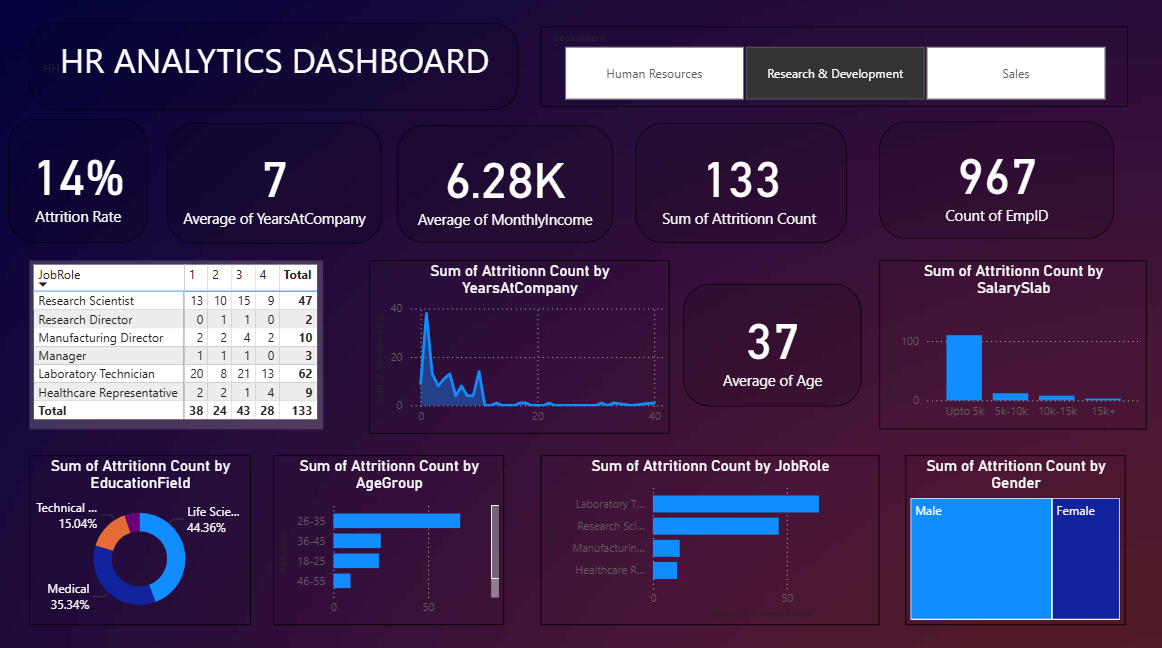

The page's visual inventory and layout, read from the dashboard file:
{"tool":"powerbi","page":{"name":"Page 1","canvas":[1280,720],"ordinal":0},"visuals":[{"type":"card","fields":{"Values":["CountNonNull(HR_Analytics.EmpID)"]},"box":[979.8,150.9,258,129],"z":0},{"type":"card","fields":{"Values":["HR_Analytics.Attrition Rate"]},"box":[11,137.2,153.7,135.8],"z":1000},{"type":"card","fields":{"Values":["Avg(HR_Analytics.Age)"]},"box":[456.9,145.5,196.2,134.5],"z":2000},{"type":"card","fields":{"Values":["Avg(HR_Analytics.YearsAtCompany)"]},"box":[200.3,133.1,241.5,146.8],"z":3000},{"type":"card","fields":{"Values":["Sum(HR_Analytics.Attritionn Count )"]},"box":[676.5,150.9,267.6,129],"z":4000},{"type":"card","fields":{"Values":["Avg(HR_Analytics.MonthlyIncome)"]},"box":[680.6,315.6,263.5,129],"z":5000},{"type":"donutChart","fields":{"Category":["HR_Analytics.EducationField"],"Y":["Sum(HR_Analytics.Attritionn Count )"]},"box":[34.3,506.3,242.9,186.6],"z":6000},{"type":"barChart","fields":{"Category":["HR_Analytics.AgeGroup"],"Y":["Sum(HR_Analytics.Attritionn Count )"]},"box":[301.9,506.3,253.9,186.6],"z":7000},{"type":"pivotTable","fields":{"Rows":["HR_Analytics.JobRole"],"Columns":["HR_Analytics.JobSatisfaction"],"Values":["Sum(HR_Analytics.Attritionn Count )"]},"box":[34.3,292.3,330.7,189.4],"z":8000},{"type":"columnChart","fields":{"Category":["HR_Analytics.SalarySlab"],"Y":["Sum(HR_Analytics.Attritionn Count )"]},"box":[967.4,292.3,293.7,185.2],"z":9000},{"type":"clusteredBarChart","fields":{"Category":["HR_Analytics.JobRole"],"Y":["Sum(HR_Analytics.Attritionn Count )"]},"box":[595.5,506.3,371.9,186.6],"z":10000},{"type":"areaChart","fields":{"Category":["HR_Analytics.YearsAtCompany"],"Y":["Sum(HR_Analytics.Attritionn Count )"]},"box":[385.6,290.9,245.6,190.7],"z":11000},{"type":"treemap","fields":{"Group":["HR_Analytics.Gender"],"Values":["Sum(HR_Analytics.Attritionn Count )"]},"box":[996.2,506.3,241.5,186.6],"z":12000},{"type":"slicer","fields":{"Values":["HR_Analytics.Department"]},"box":[595.5,49.4,644.9,87.8],"z":13000},{"type":"textbox","box":[34.3,31.6,537.9,96.1],"z":14000}]}

Visuals, with their boxes in screenshot pixels (x1, y1, x2, y2), scaled from the page's 1280x720 canvas onto the 1162x648 screenshot:
card - CountNonNull(HR_Analytics.EmpID): 889, 136, 1124, 252
card - HR_Analytics.Attrition Rate: 10, 123, 150, 246
card - Avg(HR_Analytics.Age): 415, 131, 593, 252
card - Avg(HR_Analytics.YearsAtCompany): 182, 120, 401, 252
card - Sum(HR_Analytics.Attritionn Count ): 614, 136, 857, 252
card - Avg(HR_Analytics.MonthlyIncome): 618, 284, 857, 400
donutChart - HR_Analytics.EducationField x Sum(HR_Analytics.Attritionn Count ): 31, 456, 252, 624
barChart - HR_Analytics.AgeGroup x Sum(HR_Analytics.Attritionn Count ): 274, 456, 505, 624
pivotTable - HR_Analytics.JobRole x HR_Analytics.JobSatisfaction: 31, 263, 331, 434
columnChart - HR_Analytics.SalarySlab x Sum(HR_Analytics.Attritionn Count ): 878, 263, 1145, 430
clusteredBarChart - HR_Analytics.JobRole x Sum(HR_Analytics.Attritionn Count ): 541, 456, 878, 624
areaChart - HR_Analytics.YearsAtCompany x Sum(HR_Analytics.Attritionn Count ): 350, 262, 573, 433
treemap - HR_Analytics.Gender x Sum(HR_Analytics.Attritionn Count ): 904, 456, 1124, 624
slicer - HR_Analytics.Department: 541, 44, 1126, 123
textbox: 31, 28, 519, 115
